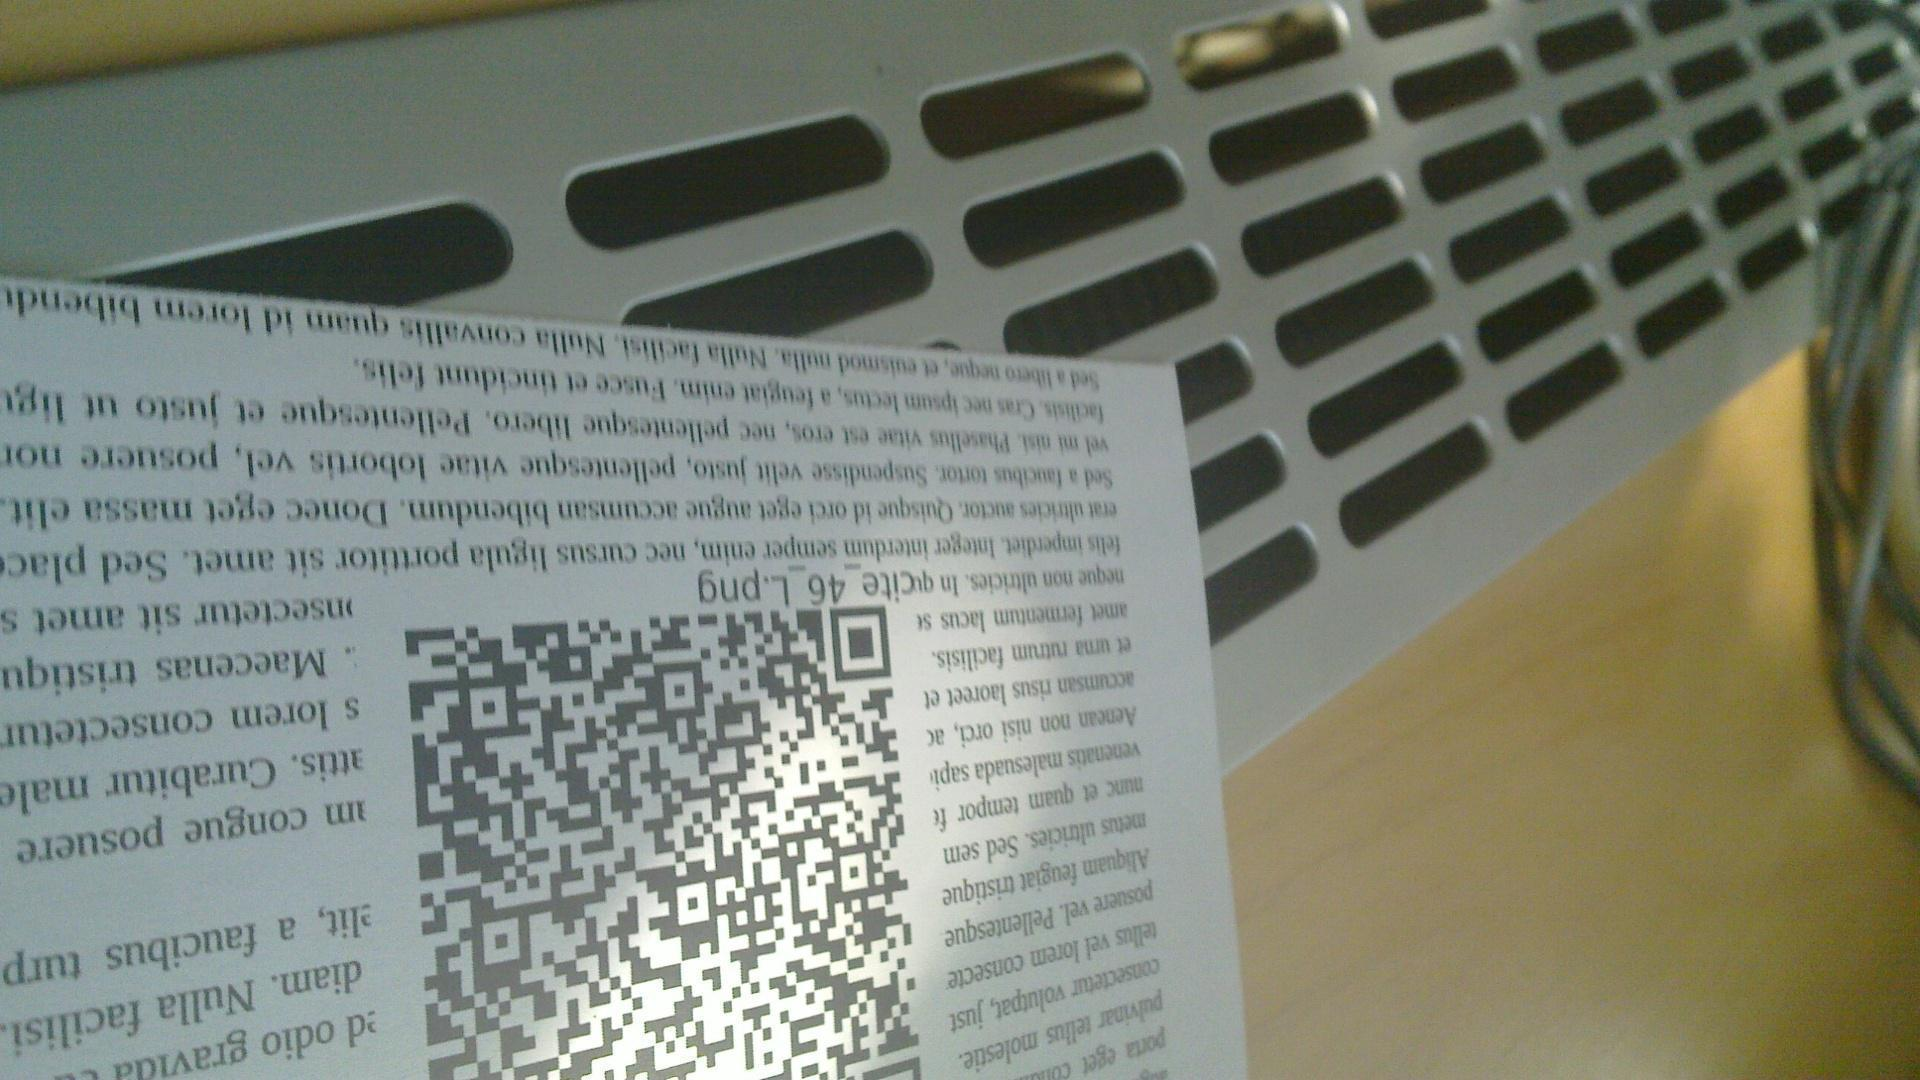qr_code: (404, 604, 922, 1080)
